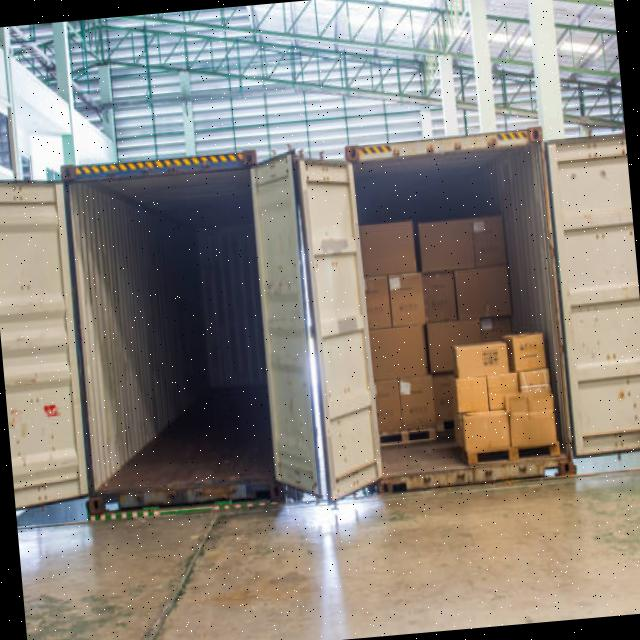Wooden-Pallets: (466, 432, 562, 472), (374, 427, 434, 448)
